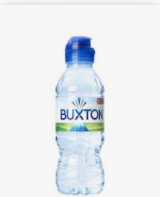Bottle: (56, 37, 107, 196)
